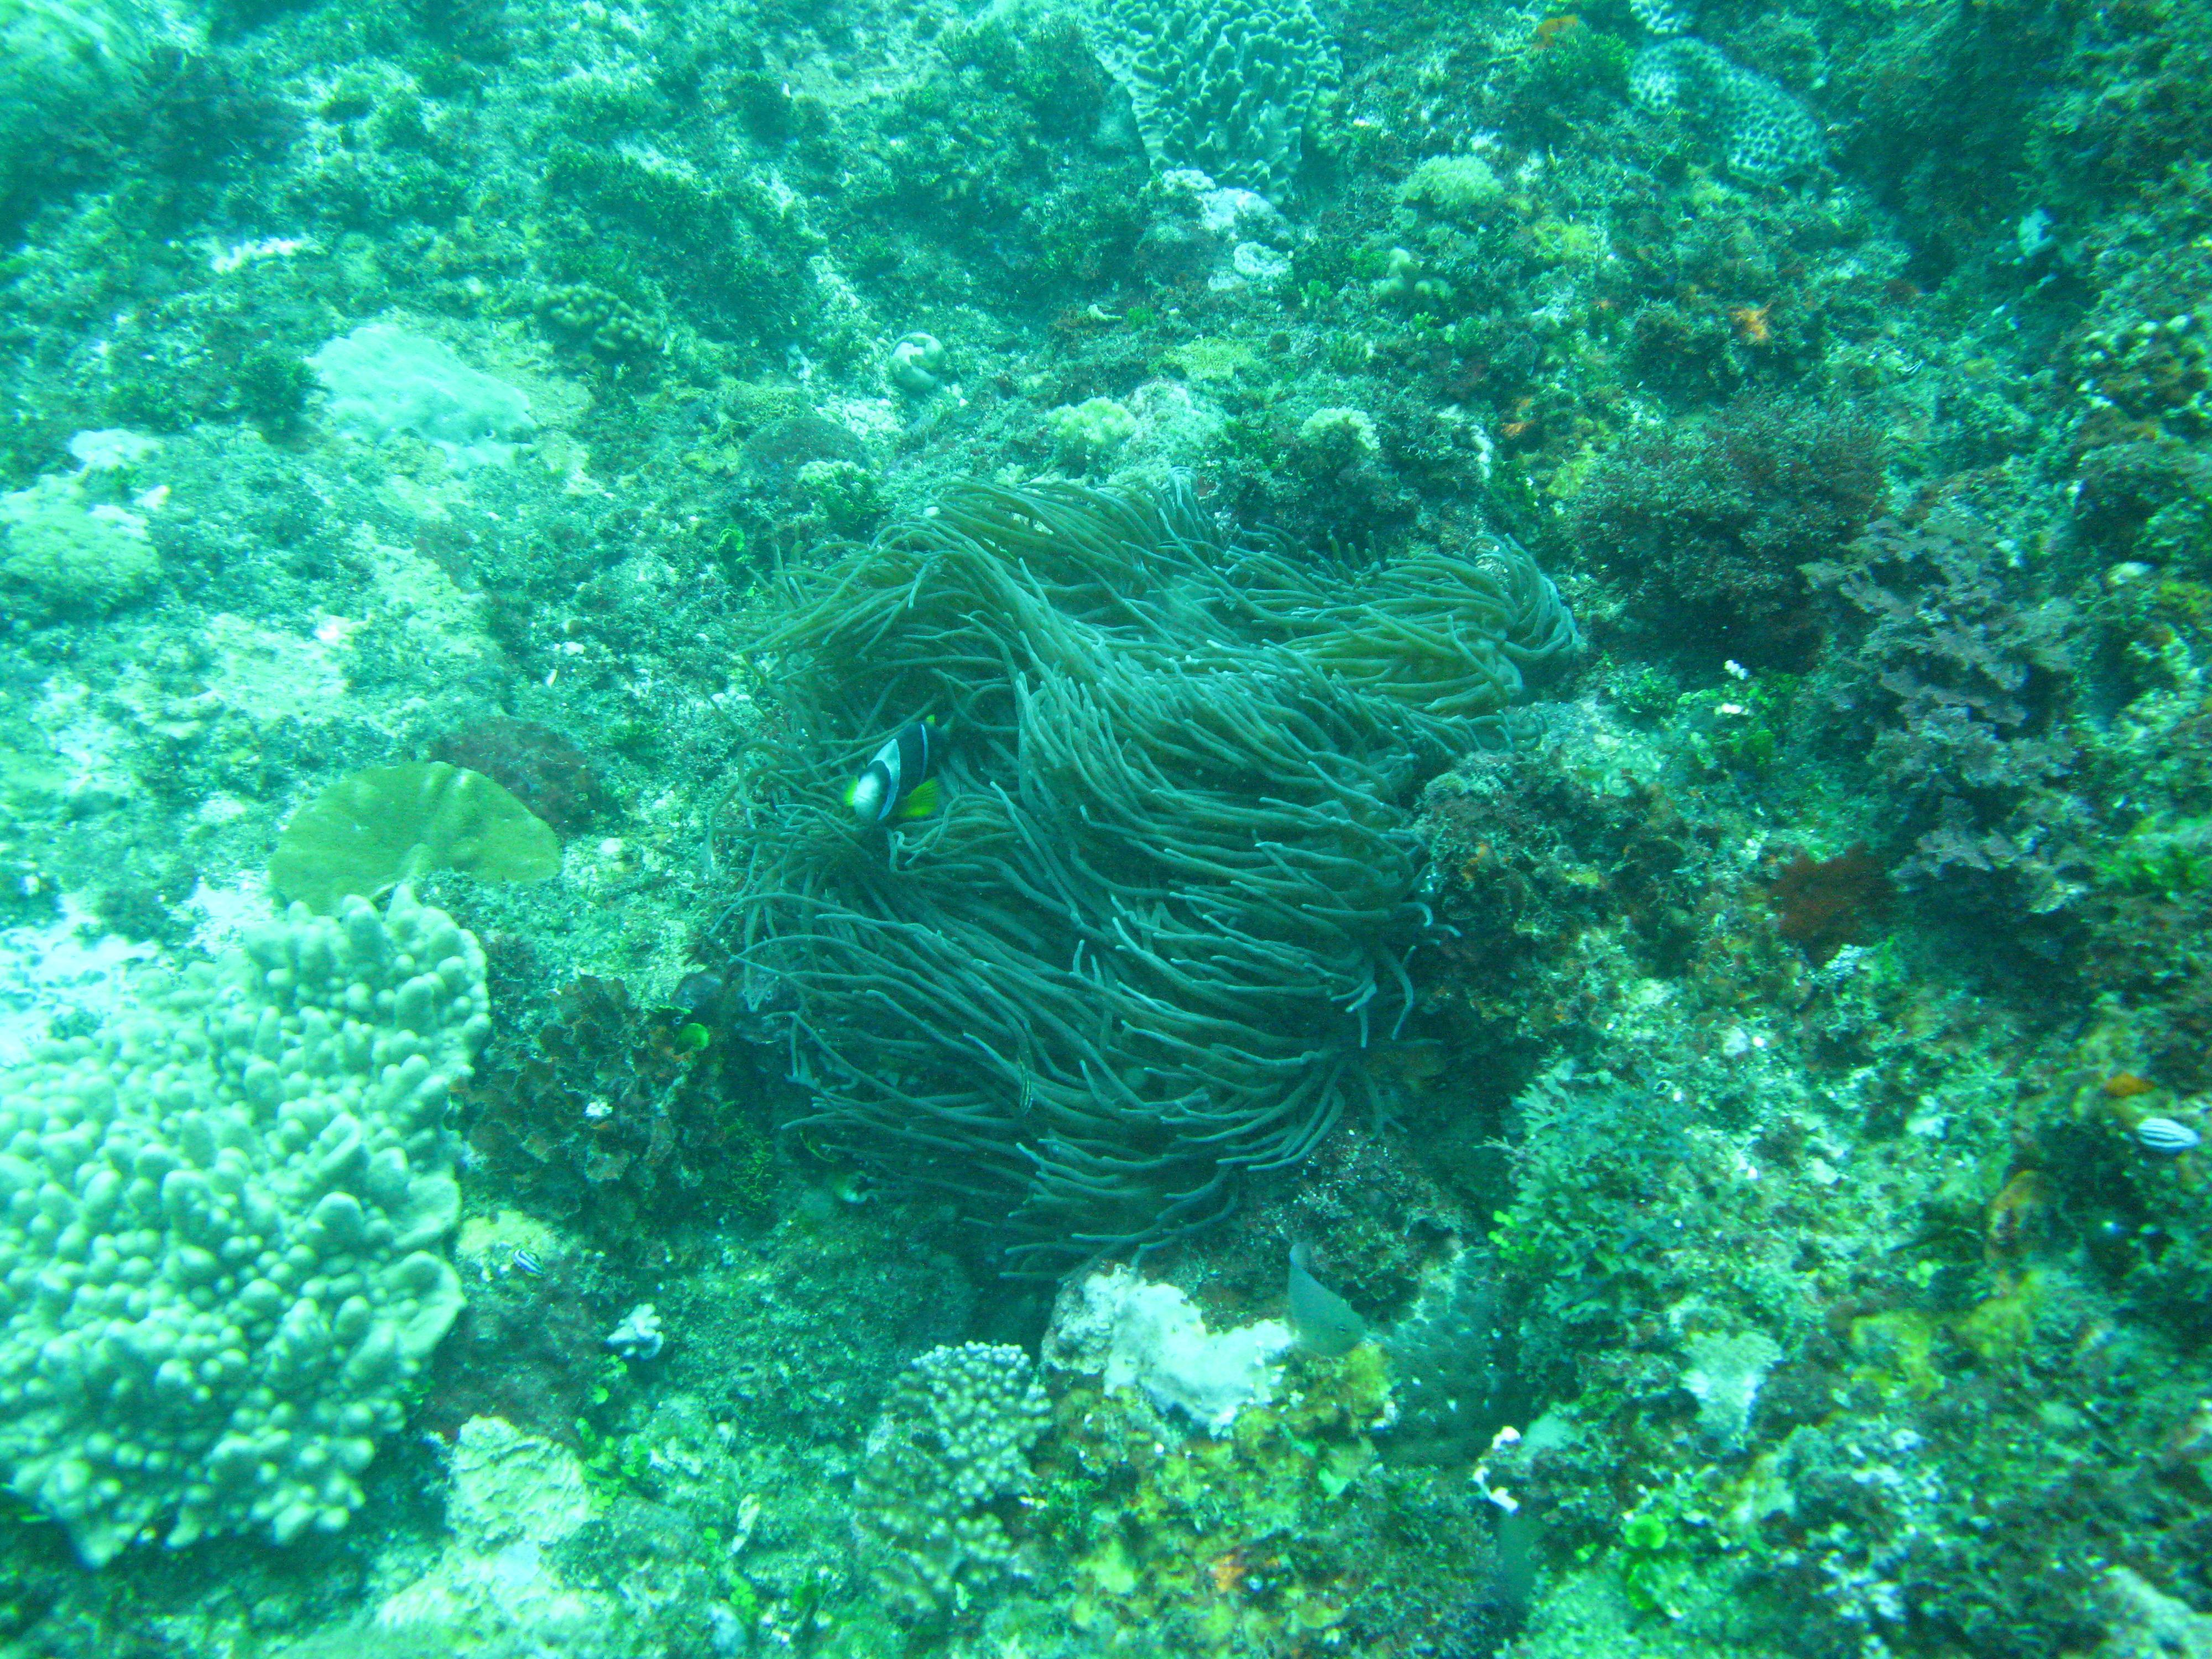Fish: (841, 702, 984, 838)
